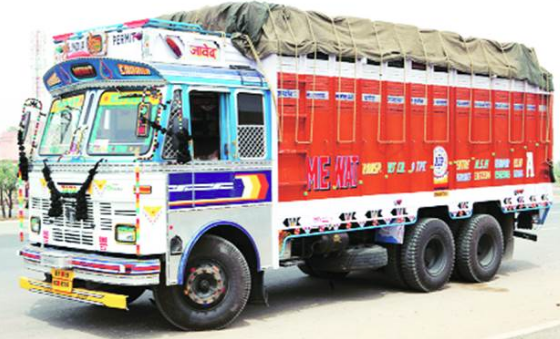truck: (11, 1, 554, 337)
